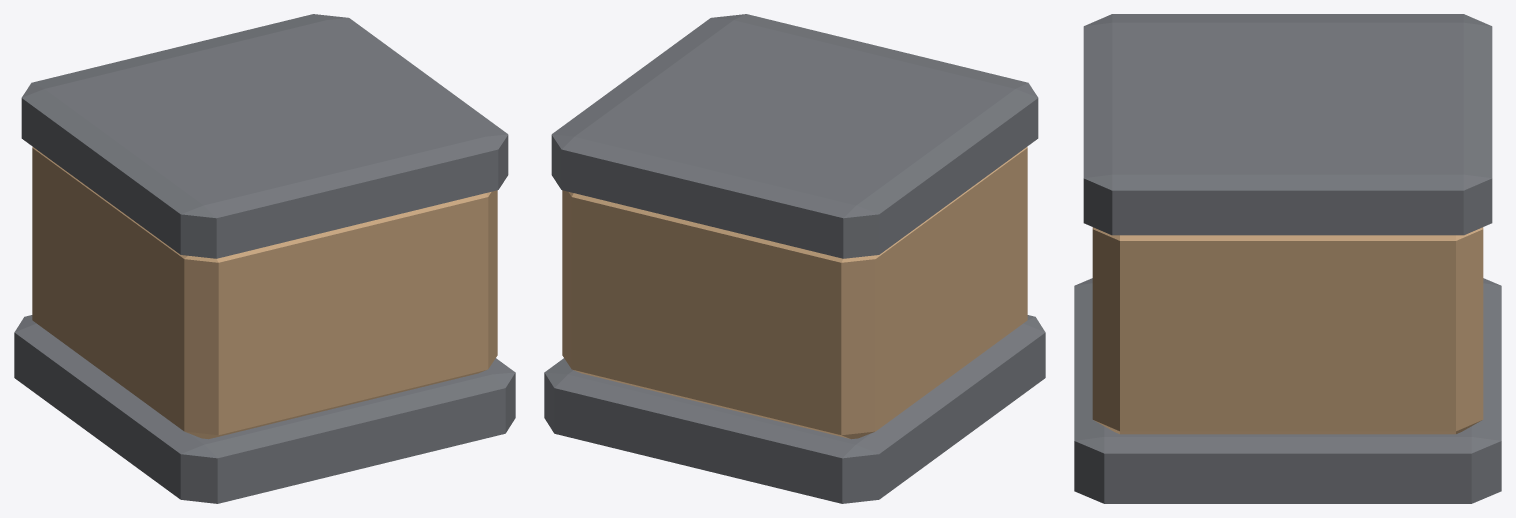
File: b14_pallet_four_chemical_drums.glb
3 renders of one model, left to right at view 1: azimuth 30°, elevation 25°; view 2: azimuth 150°, elevation 25°; view 3: azimuth 270°, elevation 25°, orthographic. The views are drawn at different scales.
Visible parts, largest first — view 1: b14_pallet_four_chemical_drums; view 2: b14_pallet_four_chemical_drums; view 3: b14_pallet_four_chemical_drums.
Part boxes in pixels (x1,y1,x2,y2): b14_pallet_four_chemical_drums: (14, 14, 515, 503); b14_pallet_four_chemical_drums: (544, 14, 1045, 503); b14_pallet_four_chemical_drums: (1074, 14, 1501, 503).
Size of the model in its own units: 1.3 by 1.07 by 1.3.
